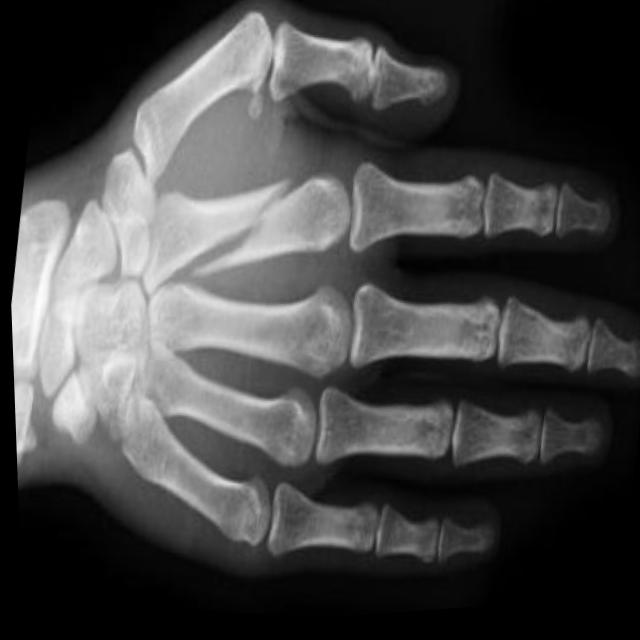fracture: (177, 148, 314, 297)
